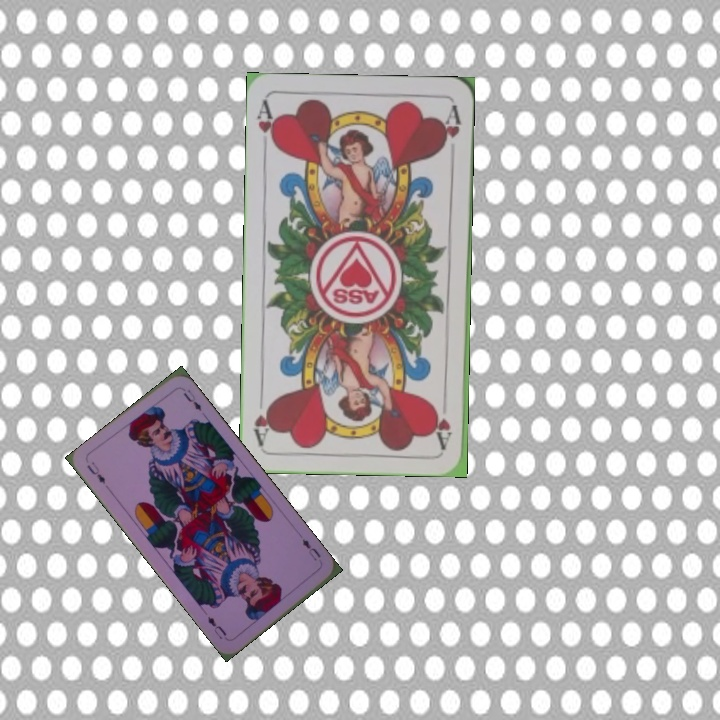EU: (298, 534, 324, 563), (83, 457, 108, 487)
HA: (253, 98, 280, 157), (432, 391, 454, 450)
